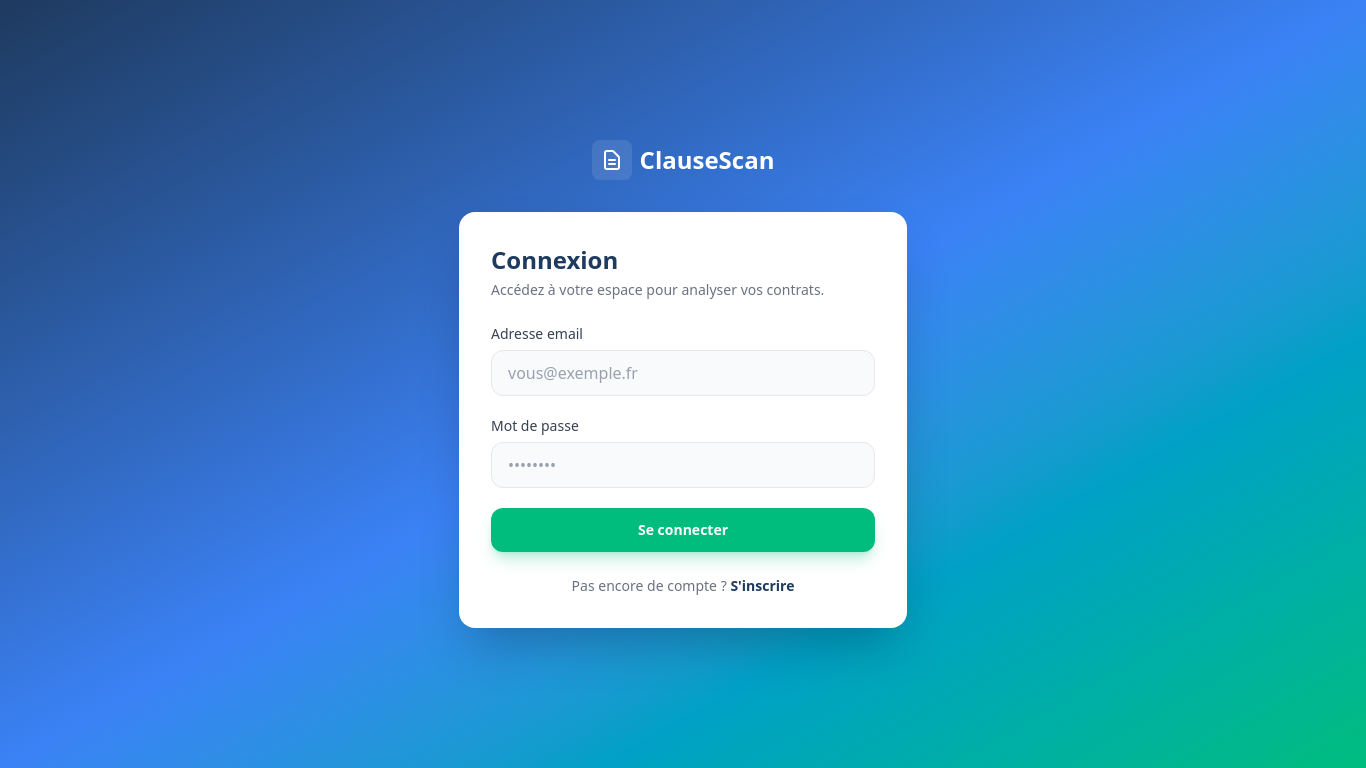
Test: LoginPage › displays a generic message on 401 invalid credentials
The image size is (1366, 768).
Step 1. Type "marie@exemple.fr" into the field labelled "Adresse email" → (683, 373), box top-left (491, 350), bottom-right (875, 396)
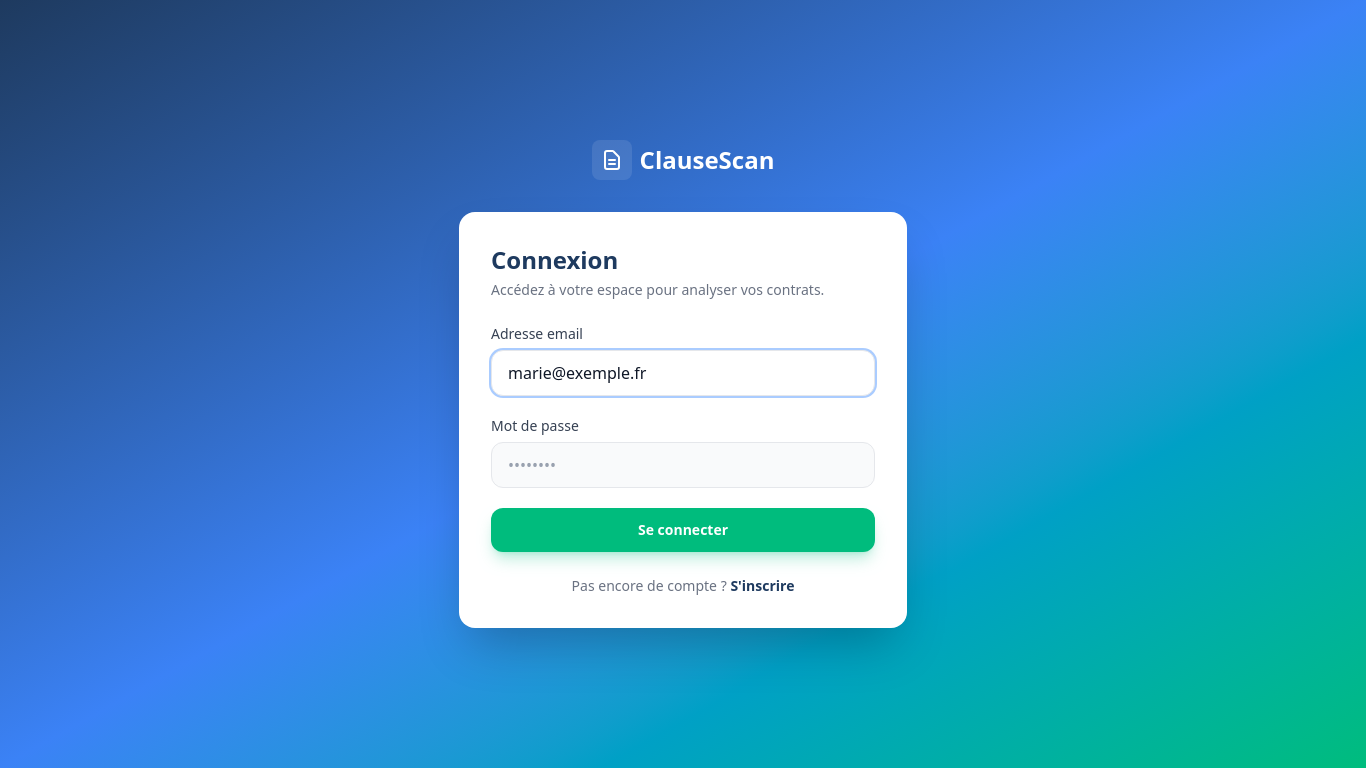
Step 2. Type "mauvais-mdp" into the password field labelled "Mot de passe" → (683, 465), box top-left (491, 442), bottom-right (875, 488)
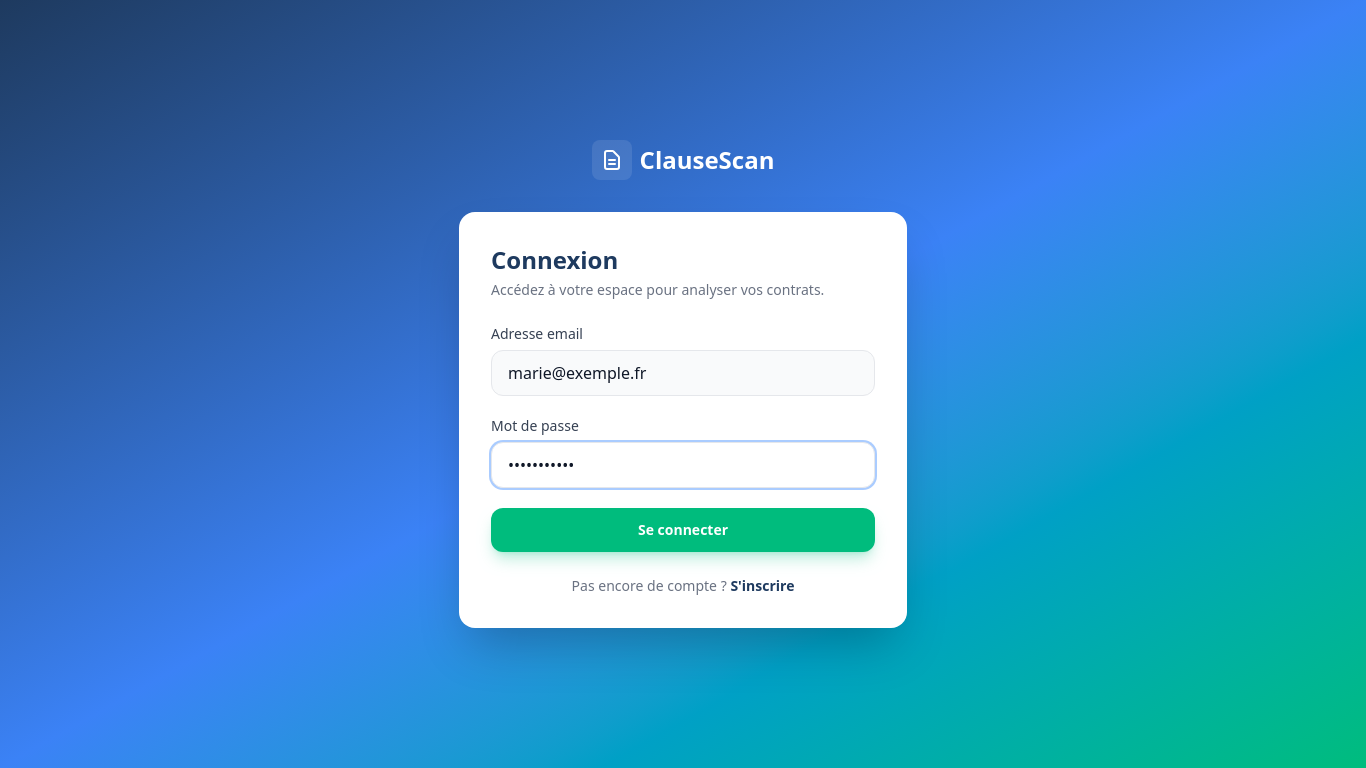
Step 3. Click the button "Se connecter" → (683, 530), box top-left (491, 508), bottom-right (875, 552)
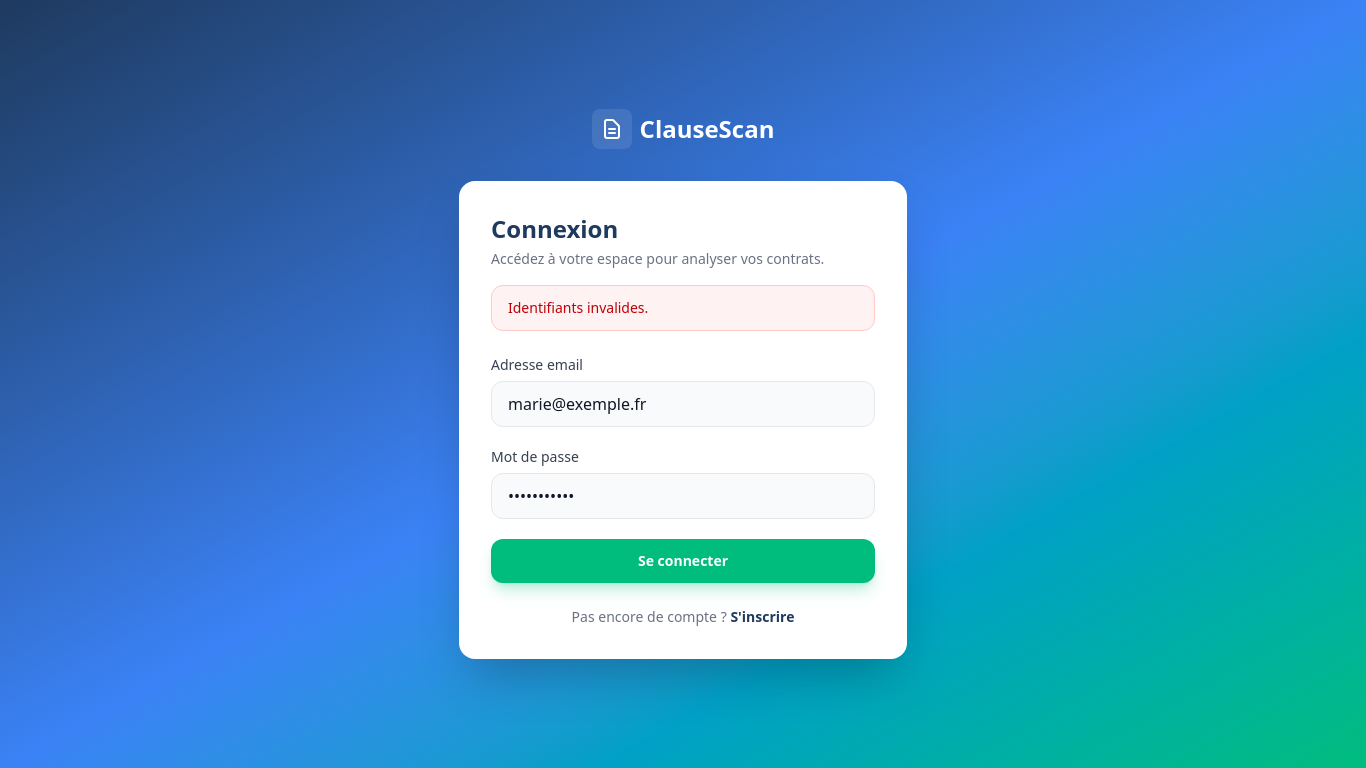
Check: the text "Identifiants invalides." is shown, box top-left (491, 285), bottom-right (875, 331)
